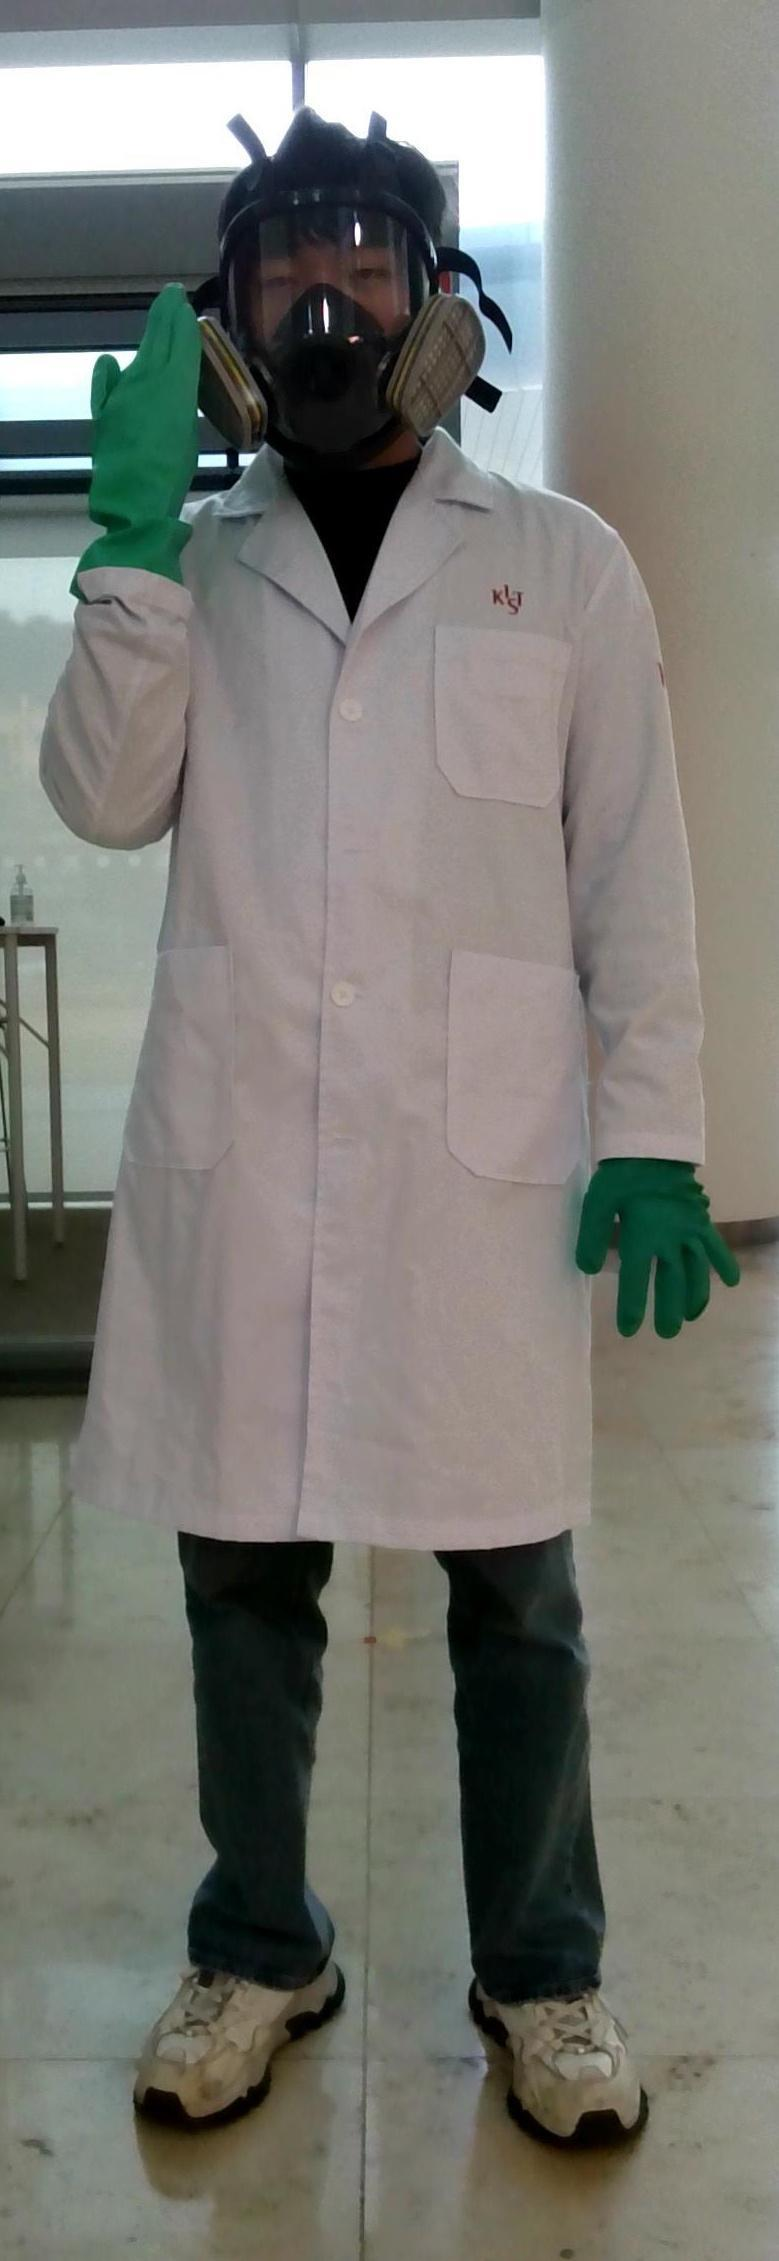lab_coat: (71, 557, 589, 1552)
